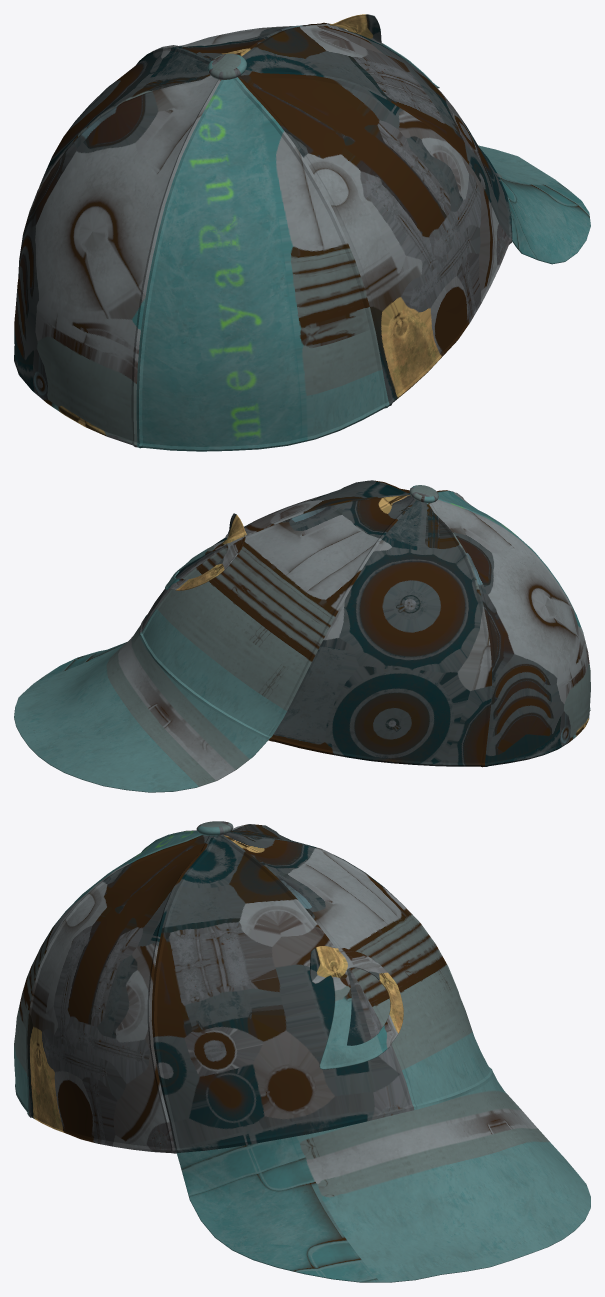
File: hat.obj
The picture shows the model from 3 angles, top to bottom: view 1: azimuth 30°, elevation 25°; view 2: azimuth 150°, elevation 25°; view 3: azimuth 270°, elevation 25°; orthographic projection. The views are drawn at different scales.
Parts seen in each view (by area): view 1: Hat; view 2: Hat; view 3: Hat.
Boxes of the visible parts, box(x1,y1,x2,y2) form: Hat: box(14, 14, 590, 451); Hat: box(14, 480, 590, 792); Hat: box(14, 821, 590, 1282).
Bounding box in the file's own units: 0.4742 × 0.2259 × 0.42.
